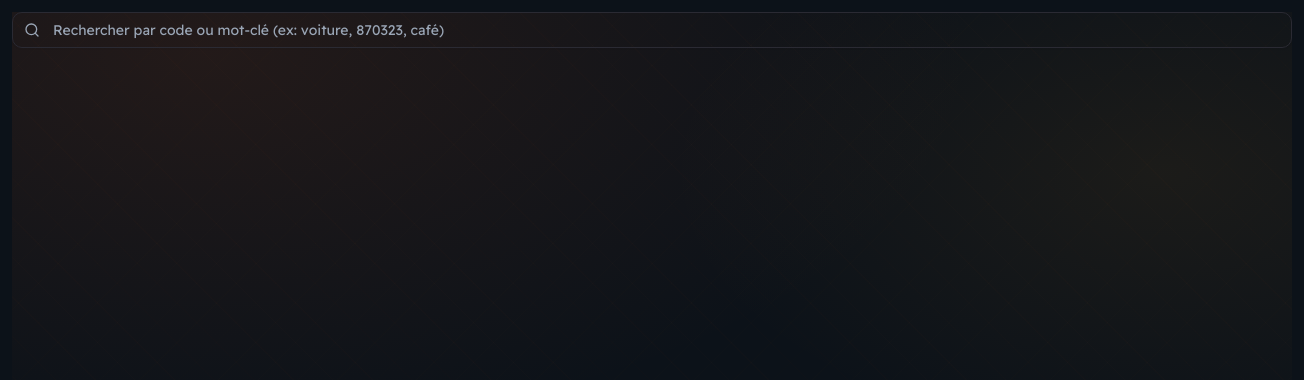
Test: SmartHSSearch › cherche au socle du pays de destination et transmet la position choisie
Later steps or results of the test are not shown.
Type "thé vert" into the field with test id "hs-search-input" at (652, 30), box [12, 12, 1292, 48]
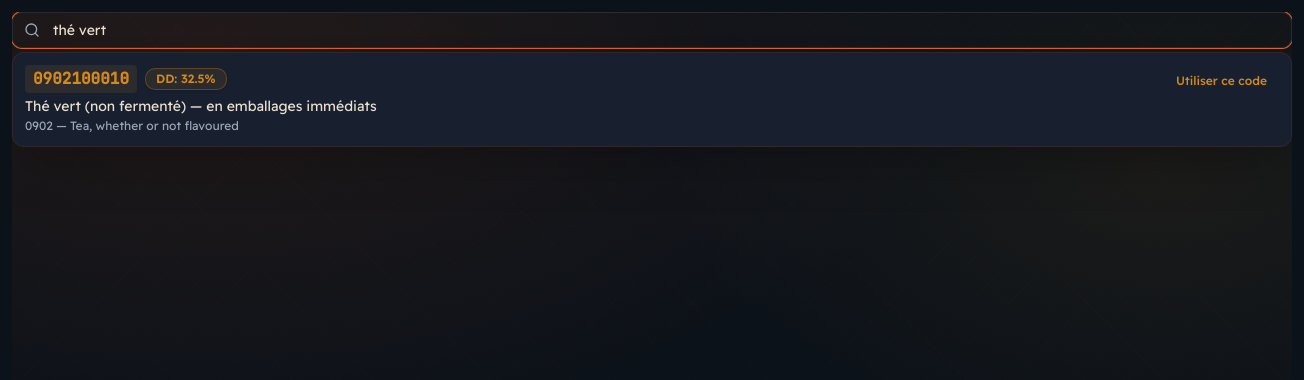
expect the text "0902100010" is shown: met, box [25, 65, 137, 93]
expect the text "DD: 32.5%" is shown: met, box [145, 68, 226, 90]
expect the text "0902 — Tea, whether or not flavoured" is shown: met, box [25, 118, 239, 133]
